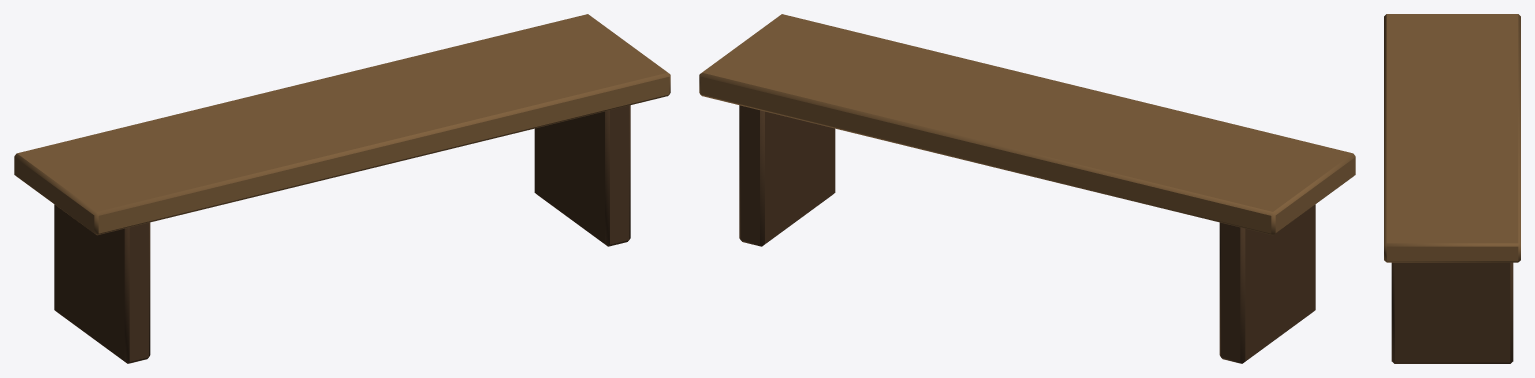
Rendered from bench.glb.
3 renders of one model, left to right at view 1: azimuth 30°, elevation 25°; view 2: azimuth 150°, elevation 25°; view 3: azimuth 270°, elevation 25°, orthographic. The views are drawn at different scales.
Parts seen in each view (by area): view 1: building; view 2: building; view 3: building.
Part boxes in pixels (x1=…): building: x1=14, y1=14, x2=670, y2=363; building: x1=699, y1=14, x2=1355, y2=363; building: x1=1384, y1=14, x2=1520, y2=363.
Bounding box in the file's own units: 1.8 × 0.49 × 0.45.
